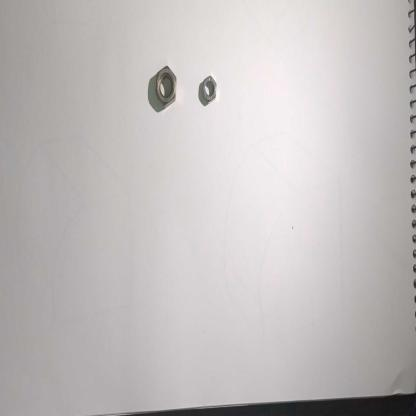NUTS: (152, 58, 181, 118), (199, 66, 221, 103)
